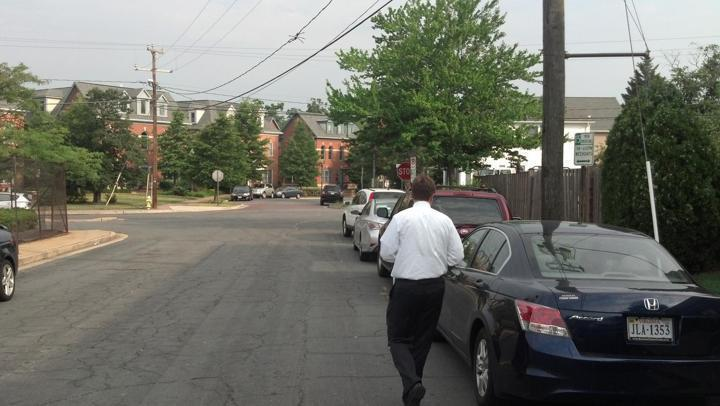safetyhat: (382, 164, 474, 387)
